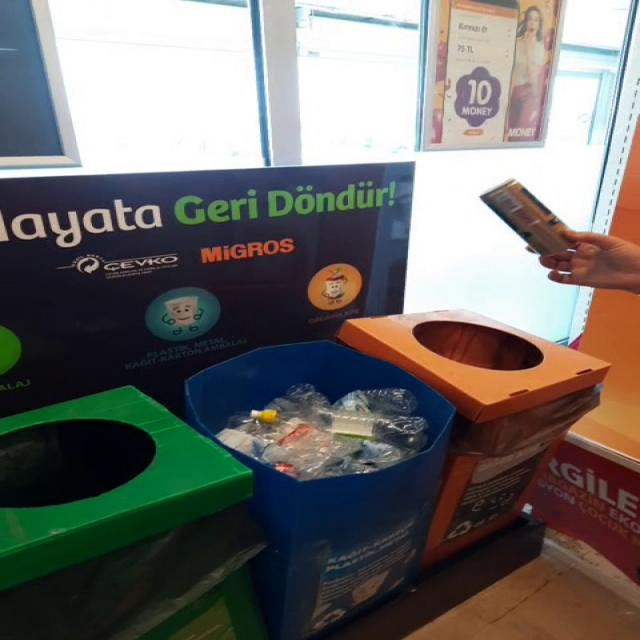metal: (481, 180, 572, 256)
